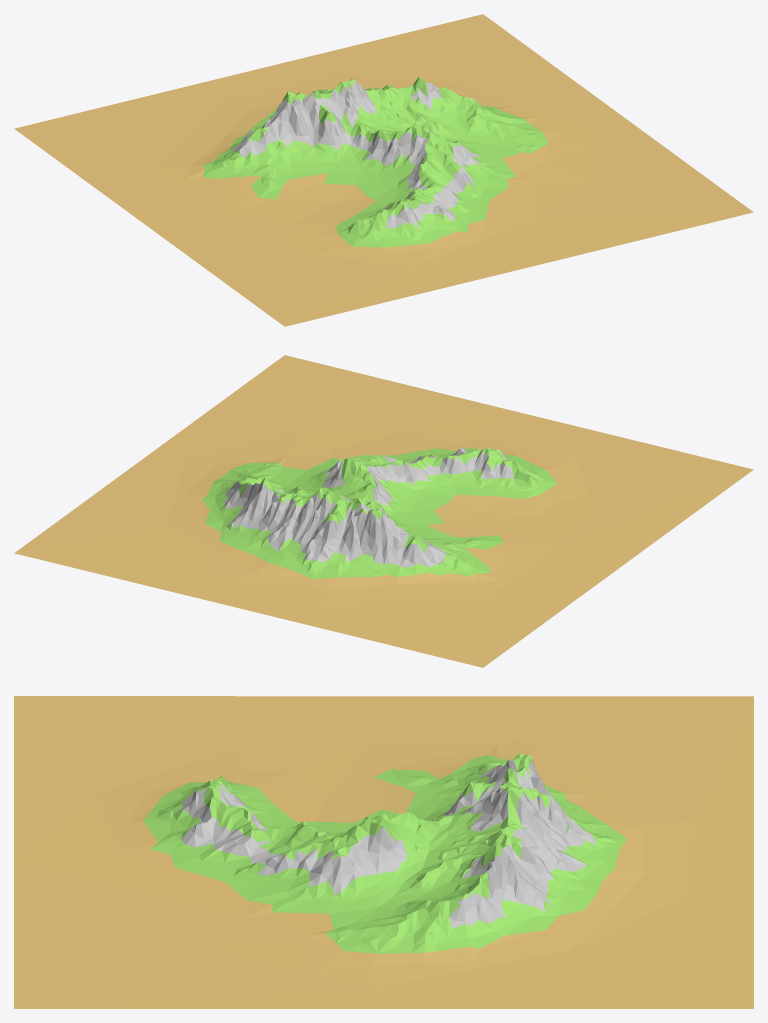
The model's file is lowpolyterrainnew.glb.
3 renders of one model, top to bottom at view 1: azimuth 30°, elevation 25°; view 2: azimuth 150°, elevation 25°; view 3: azimuth 270°, elevation 25°, orthographic. The views are drawn at different scales.
Visible parts, largest first — view 1: Terrain01; view 2: Terrain01; view 3: Terrain01.
Part boxes in pixels (box(x1,y1,x2,y2)): Terrain01: box(14, 14, 753, 326); Terrain01: box(14, 355, 753, 667); Terrain01: box(14, 696, 753, 1008).
Size of what is drawn, in the model's own units: 10 by 1.11 by 10.
